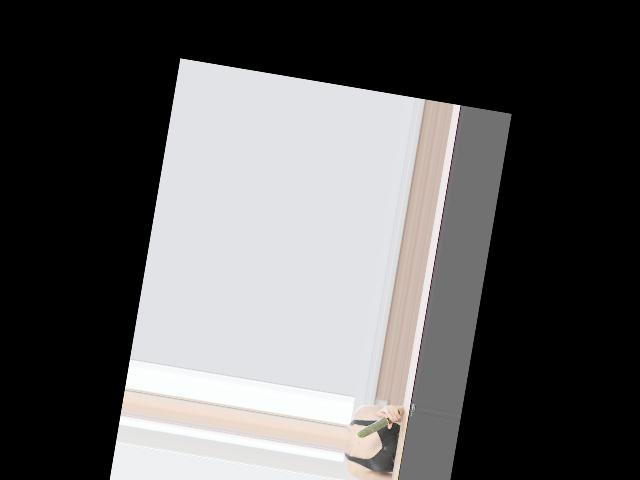cucumber: (355, 403, 400, 443)
